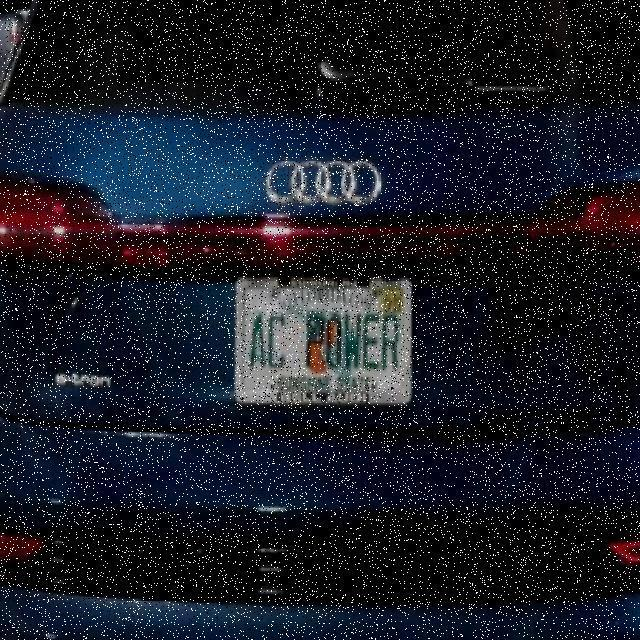LicensePlate: (231, 274, 414, 408)
